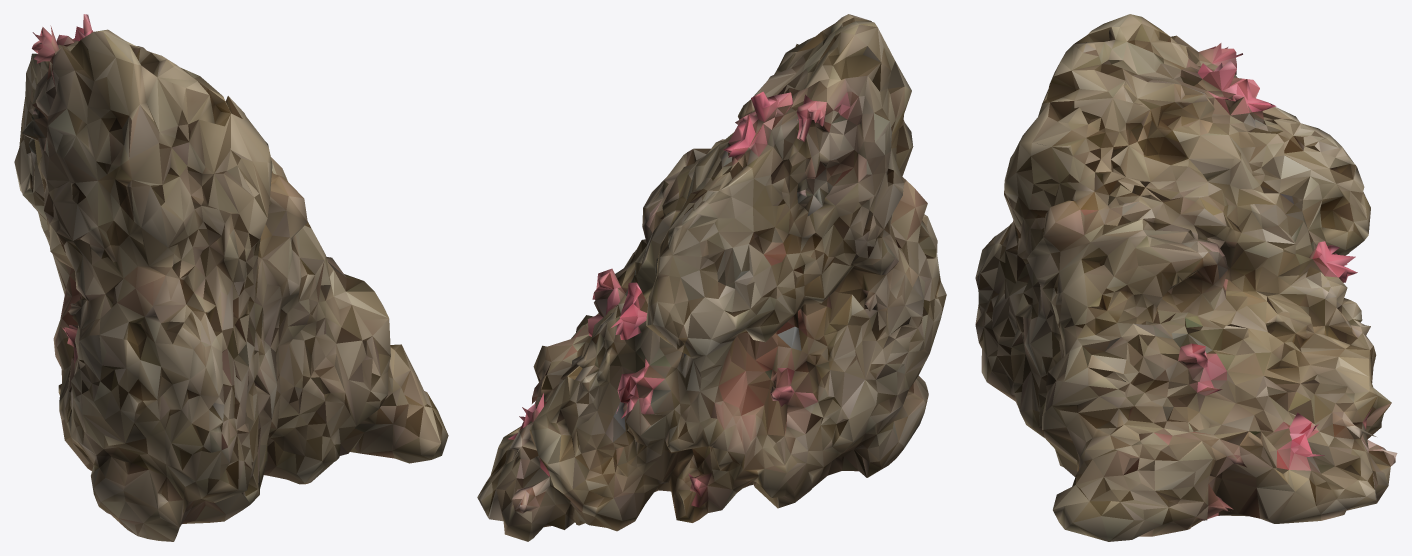
Rendered from rock.glb.
The picture shows the model from 3 angles, left to right: view 1: azimuth 30°, elevation 25°; view 2: azimuth 150°, elevation 25°; view 3: azimuth 270°, elevation 25°; orthographic projection. The views are drawn at different scales.
Parts seen in each view (by area): view 1: geometry_0; view 2: geometry_0; view 3: geometry_0.
Part boxes in pixels (x1=…): geometry_0: x1=14, y1=14, x2=448, y2=541; geometry_0: x1=477, y1=14, x2=946, y2=541; geometry_0: x1=975, y1=14, x2=1397, y2=541.
Bounding box in the file's own units: 0.232 × 0.3 × 0.284.
Materials: 1 (1 with a texture image).
